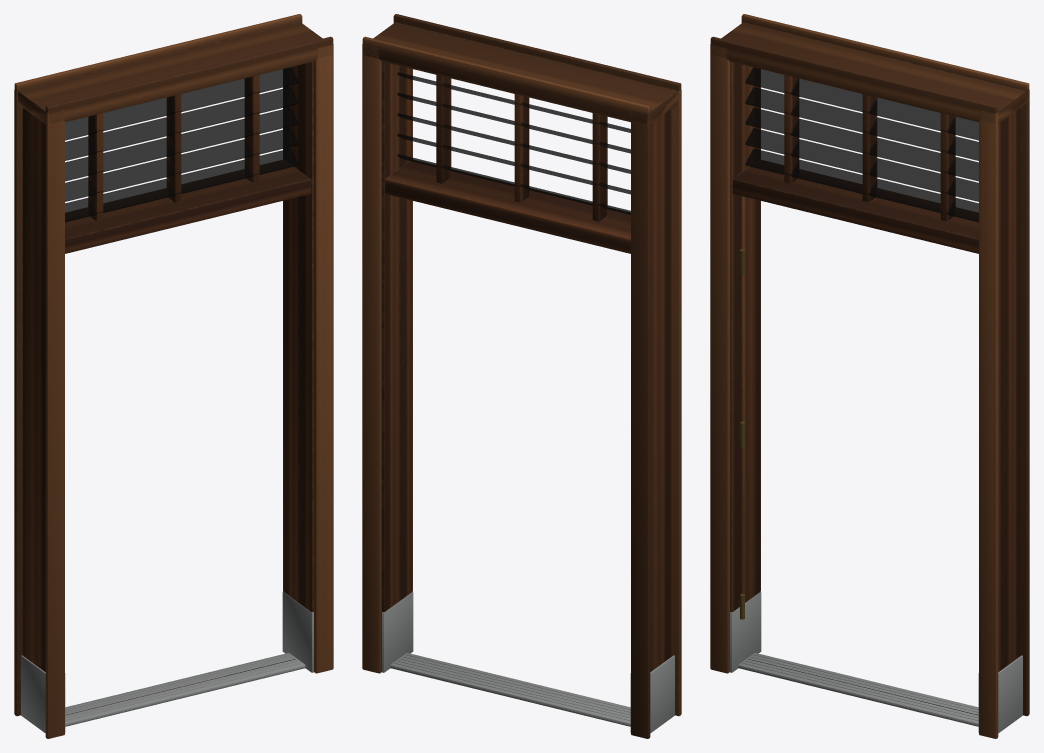
The model's file is CTCC_ENV_WardDoorFrame.fbx.
3 renders of one model, left to right at view 1: azimuth 30°, elevation 25°; view 2: azimuth 150°, elevation 25°; view 3: azimuth 330°, elevation 25°, orthographic.
Parts seen in each view (by area): view 1: CTCC_ENV_WardDoorFrame_LOD0; view 2: CTCC_ENV_WardDoorFrame_LOD0; view 3: CTCC_ENV_WardDoorFrame_LOD0.
Part boxes in pixels (x1,y1,x2,y2): CTCC_ENV_WardDoorFrame_LOD0: (14,14,333,738); CTCC_ENV_WardDoorFrame_LOD0: (362,14,681,738); CTCC_ENV_WardDoorFrame_LOD0: (710,14,1029,738).
Size of what is drawn, in the model's own units: 1.39 by 2.93 by 0.284.
